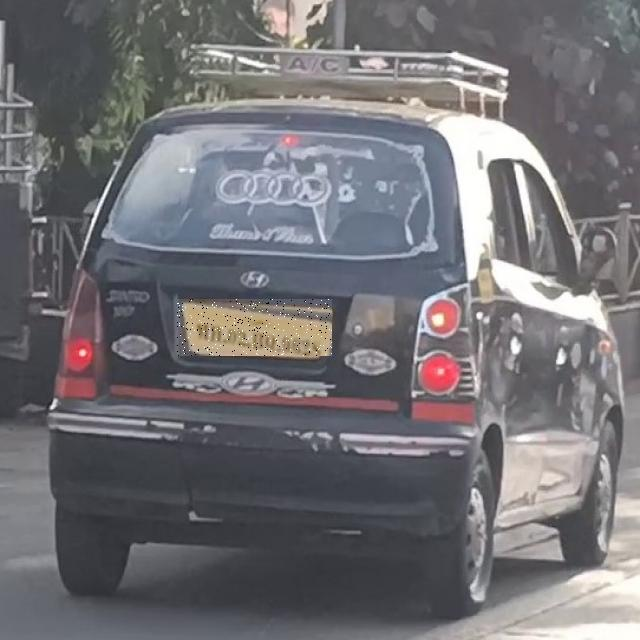Plate: (178, 300, 333, 357)
